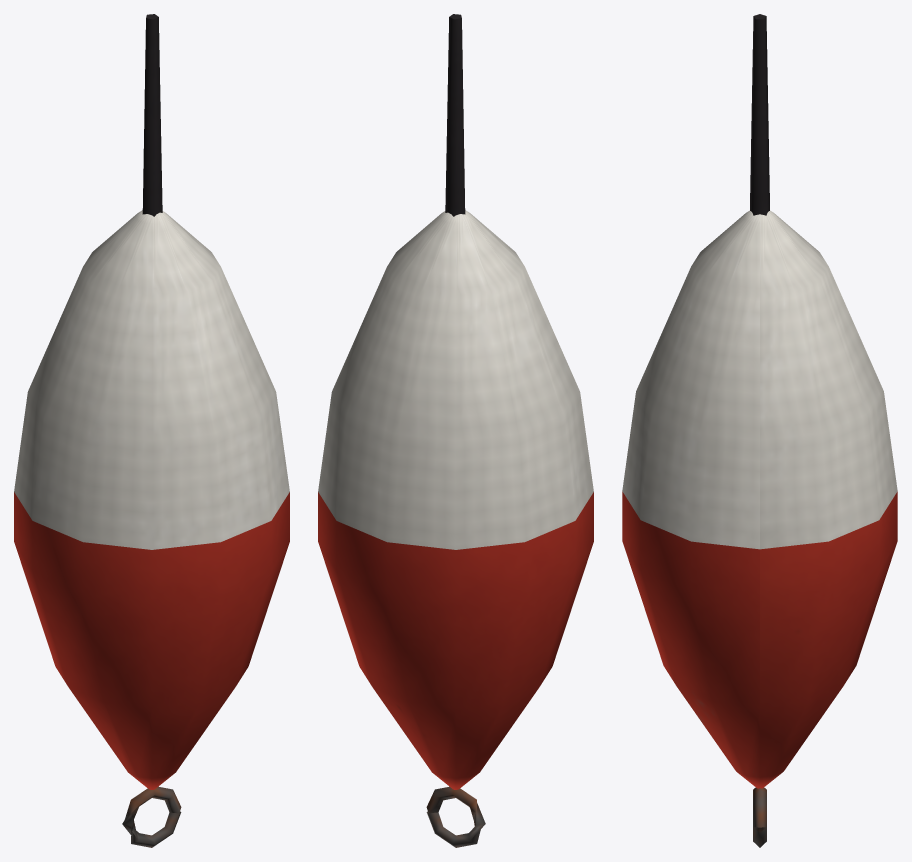
File: HO_Tool_Fishing_Float.fbx
3 renders of one model, left to right at view 1: azimuth 30°, elevation 25°; view 2: azimuth 150°, elevation 25°; view 3: azimuth 270°, elevation 25°, orthographic.
Parts seen in each view (by area): view 1: HO_Tool_Fishing_Float__Cloth_White, HO_Tool_Fishing_Float__Red_Lacquer, HO_Tool_Fishing_Float__Black_Lacquer, HO_Tool_Fishing_Float__Iron_Wrought; view 2: HO_Tool_Fishing_Float__Cloth_White, HO_Tool_Fishing_Float__Red_Lacquer, HO_Tool_Fishing_Float__Black_Lacquer, HO_Tool_Fishing_Float__Iron_Wrought; view 3: HO_Tool_Fishing_Float__Cloth_White, HO_Tool_Fishing_Float__Red_Lacquer, HO_Tool_Fishing_Float__Black_Lacquer, HO_Tool_Fishing_Float__Iron_Wrought.
Boxes of the visible parts, x1,y1,x2,y2 form: HO_Tool_Fishing_Float__Cloth_White: [14, 210, 289, 549]; HO_Tool_Fishing_Float__Red_Lacquer: [14, 492, 289, 789]; HO_Tool_Fishing_Float__Black_Lacquer: [142, 14, 162, 216]; HO_Tool_Fishing_Float__Iron_Wrought: [122, 786, 181, 847]; HO_Tool_Fishing_Float__Cloth_White: [318, 210, 593, 549]; HO_Tool_Fishing_Float__Red_Lacquer: [318, 492, 593, 789]; HO_Tool_Fishing_Float__Black_Lacquer: [445, 14, 465, 216]; HO_Tool_Fishing_Float__Iron_Wrought: [426, 786, 485, 847]; HO_Tool_Fishing_Float__Cloth_White: [622, 210, 897, 549]; HO_Tool_Fishing_Float__Red_Lacquer: [622, 491, 897, 788]; HO_Tool_Fishing_Float__Black_Lacquer: [750, 14, 769, 215]; HO_Tool_Fishing_Float__Iron_Wrought: [753, 787, 766, 847].
Bounding box in the file's own units: 0.2 × 0.665 × 0.2.
